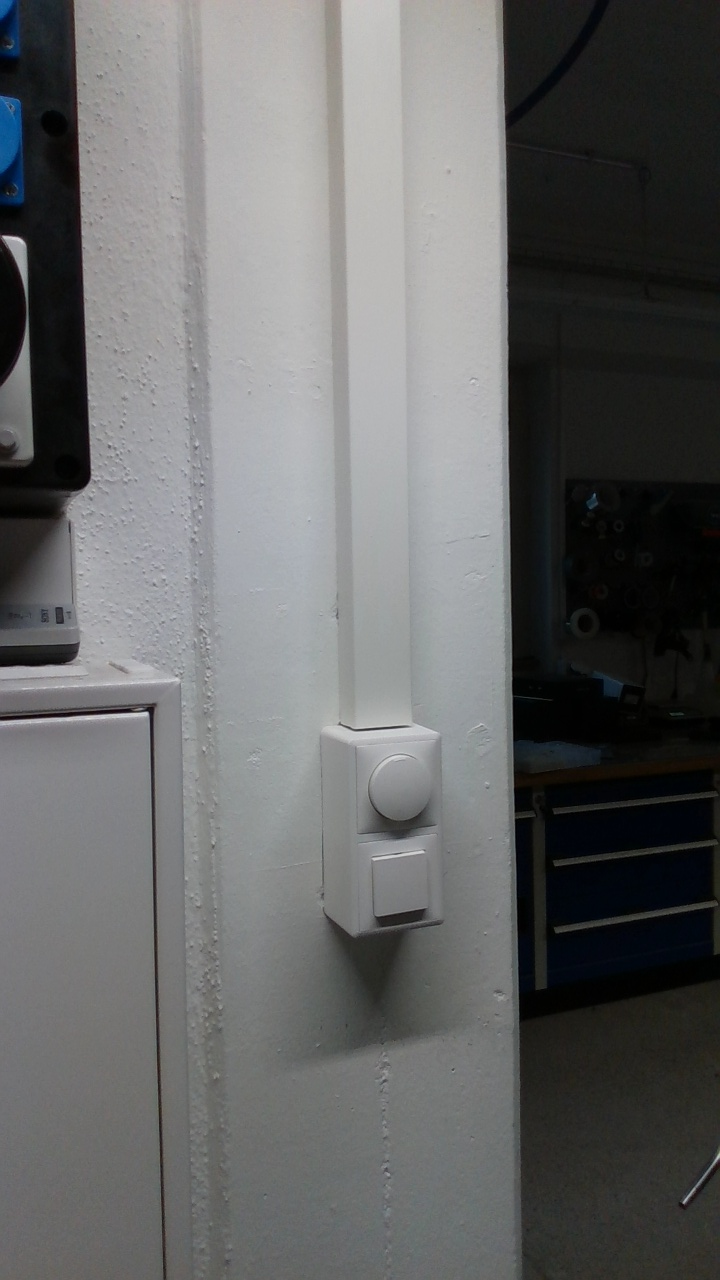Light_Switch: (352, 841, 444, 933), (353, 741, 441, 833)
